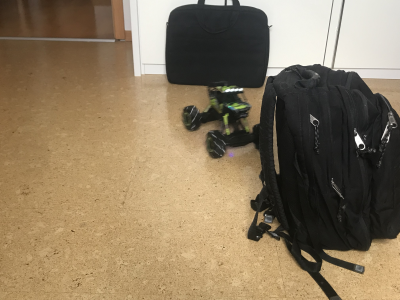remote control car: (179, 78, 265, 160)
